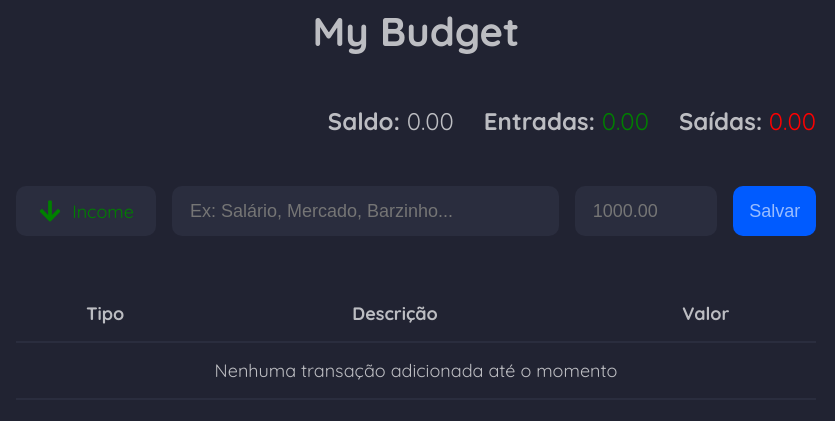
it: App › should save a transaction
Type "Salário" into the field with placeholder "Ex: Salário, Mercado, Barzinho..." at (365, 211), box [172,186,559,236]
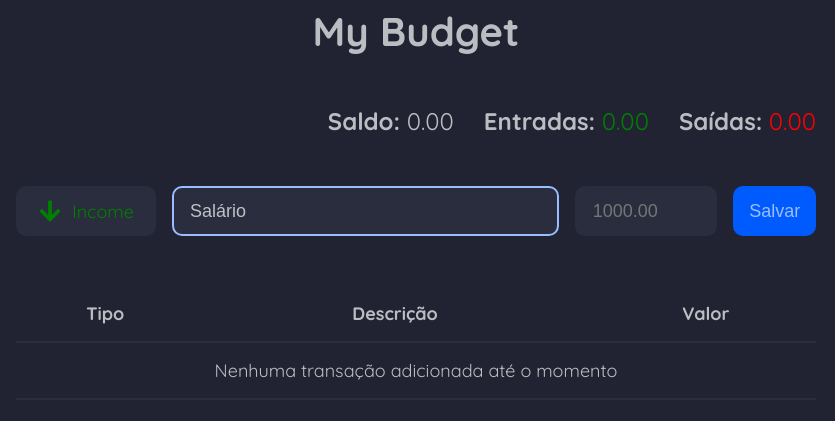
Type "2500.00" into the field with placeholder "1000.00" at (646, 211), box [575,186,717,236]
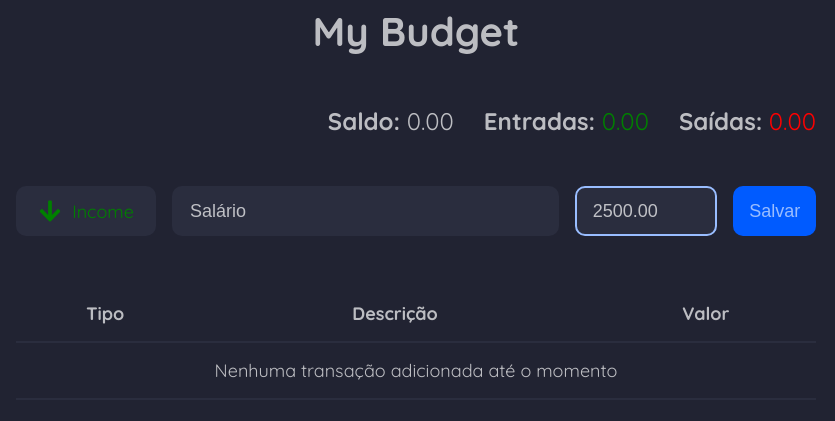
Click the button "Salvar" at (775, 211), box [733,186,816,236]
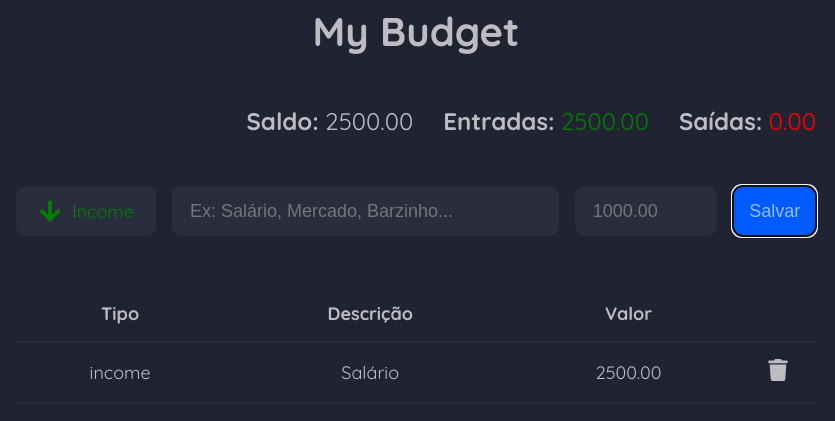
Now the cell "Salário" is shown, box [224,342,516,403]
Now the cell "2500.00" is shown, box [516,342,741,403]
